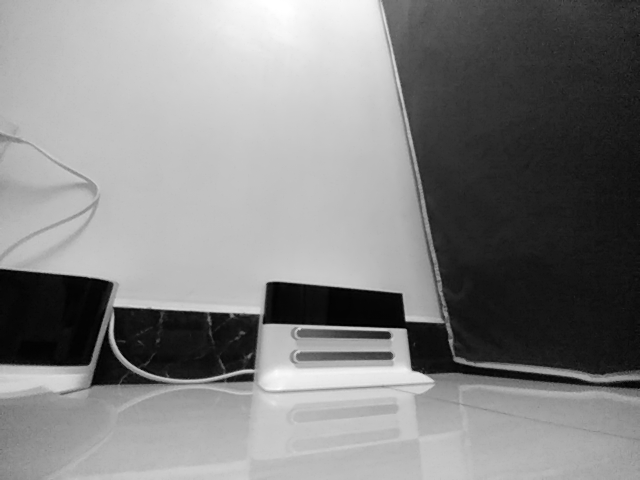Ruby: (252, 279, 437, 395)
TanosV: (1, 265, 120, 402)
wire: (105, 306, 254, 382)
